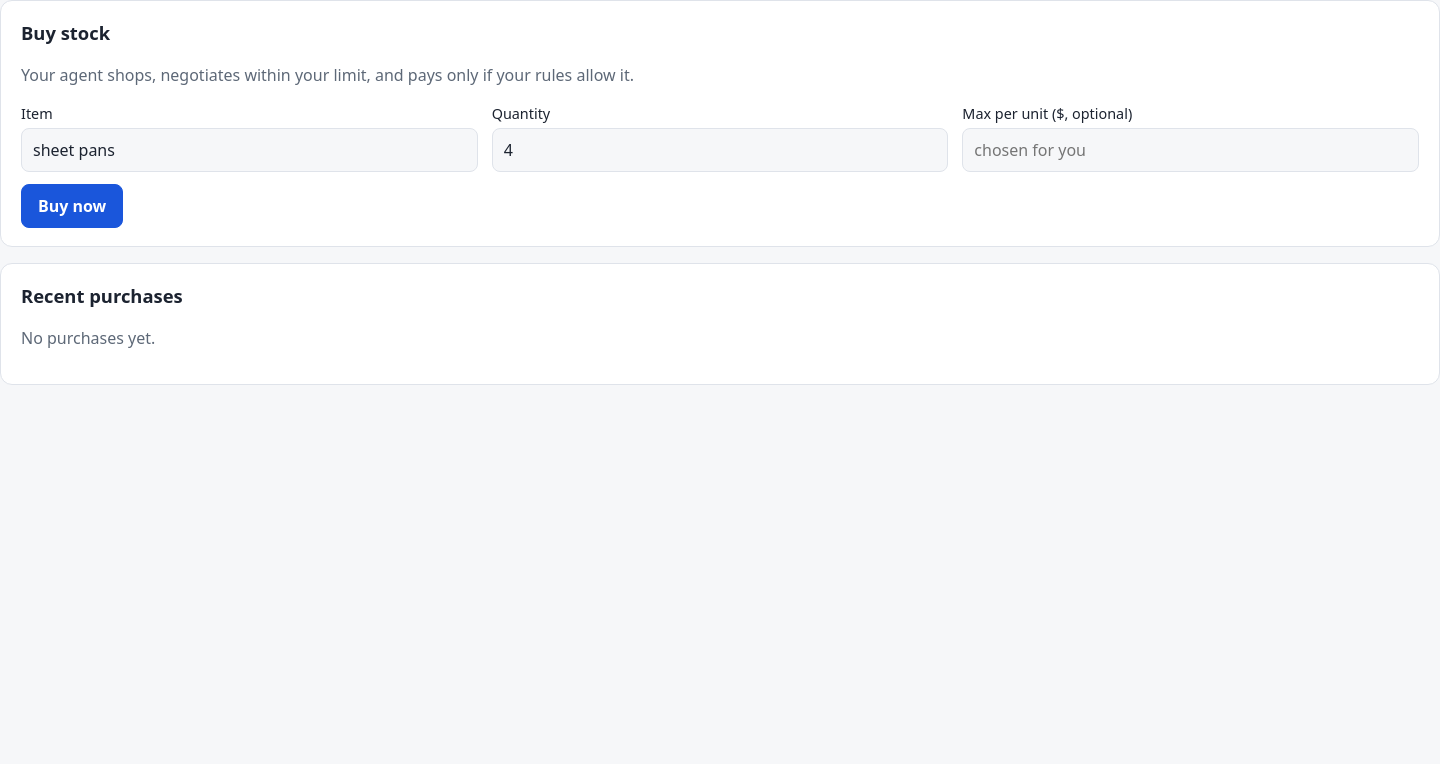
Scenario: PurchaseScreen › shows the truth when approving is refused on the server's re-check
The image size is (1440, 764).
Step 1. Click the button "Buy now" → (72, 206), box [21,184,123,228]
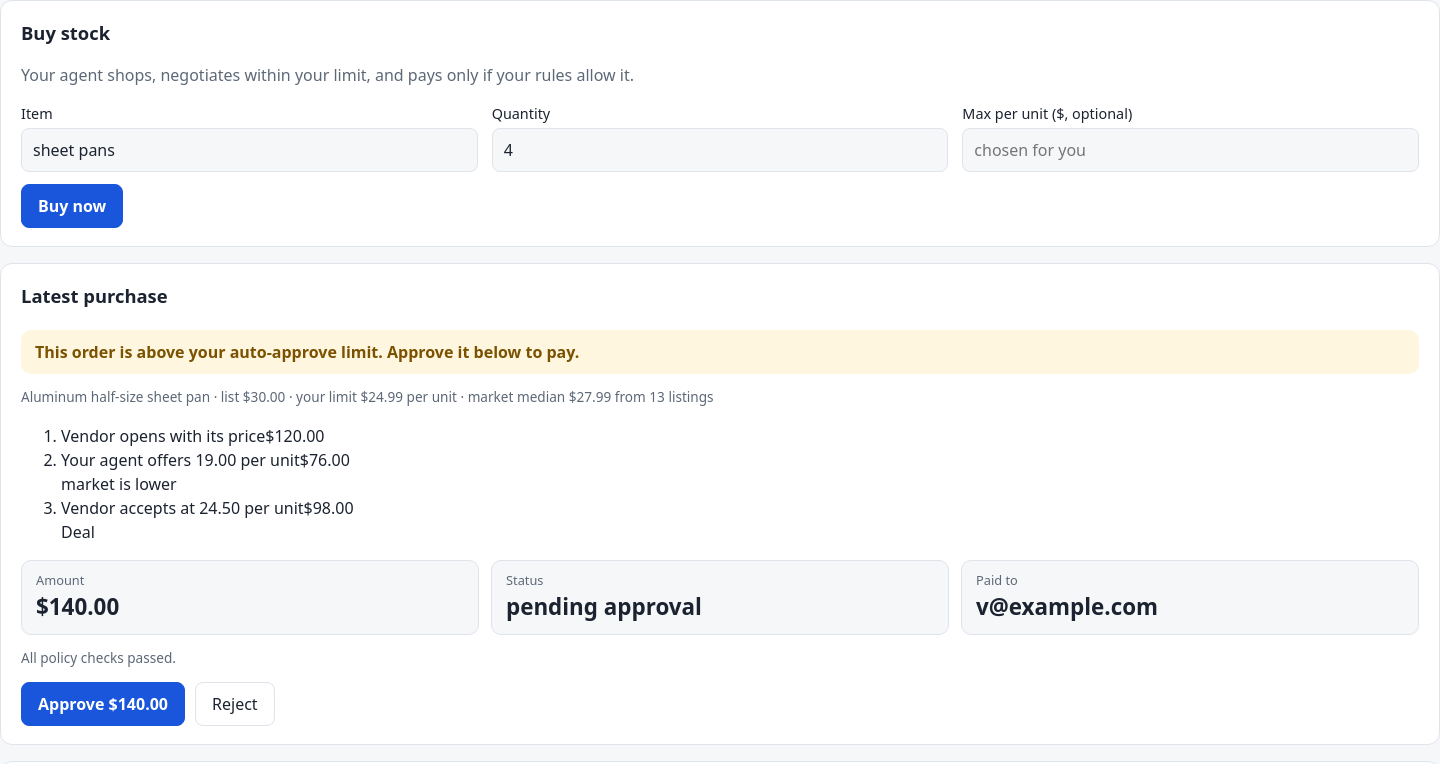
Step 2. Click the button "Approve $140.00" → (103, 704), box [21,682,185,726]
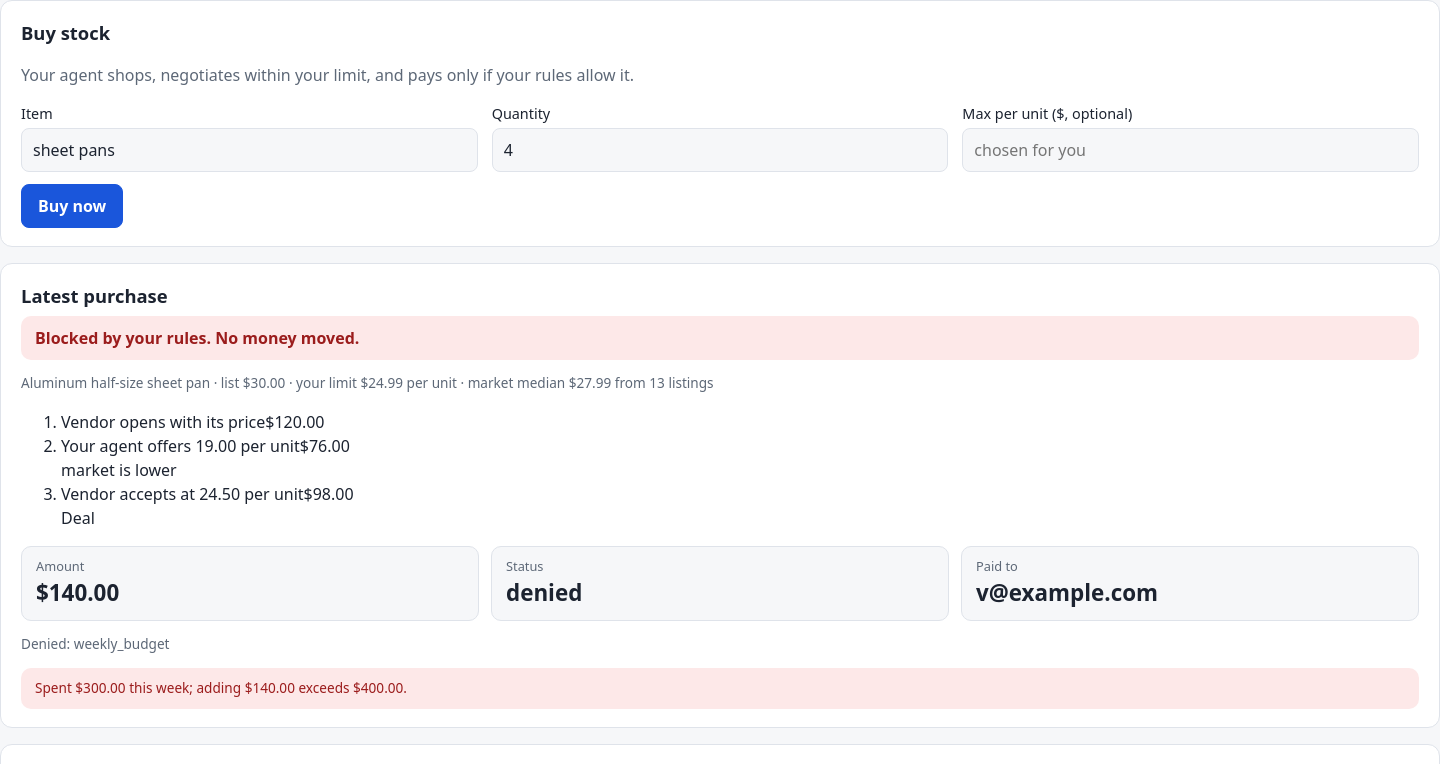
Now the text "Blocked by your rules. No money moved." is shown, box [35,327,359,349]
Now the text "Spent $300.00 this week; adding $140.00 exceeds $400.00." is shown, box [21,668,1419,709]
